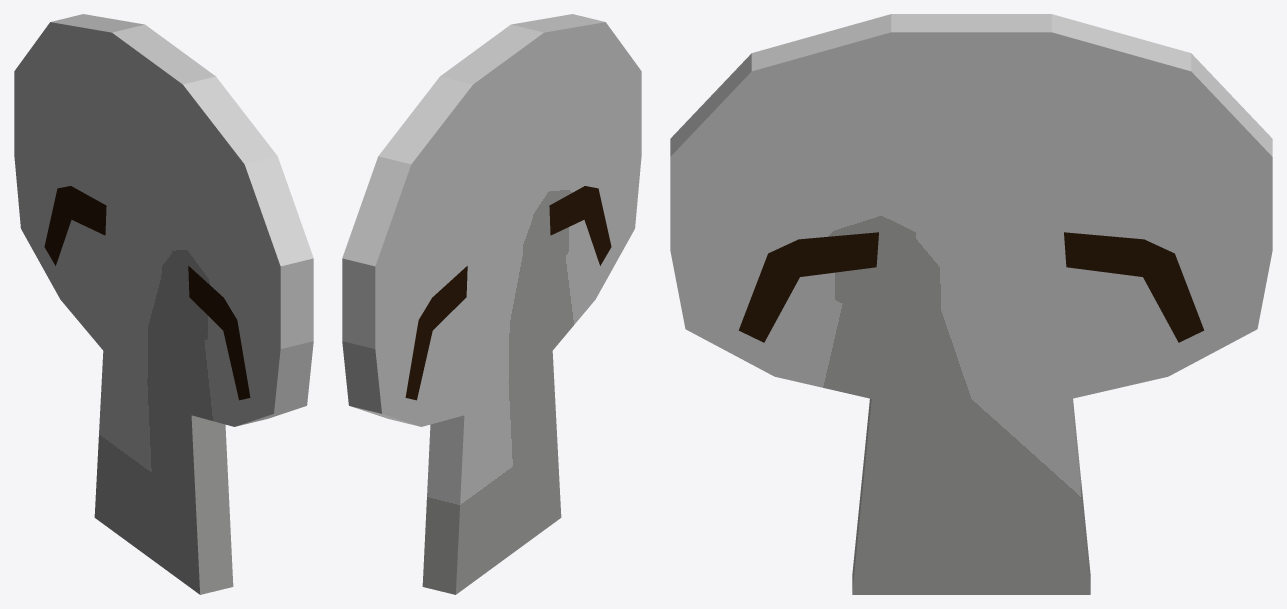
Rendered from mushroom06.gltf.
3 views of the same model, side by side, from view 1: azimuth 30°, elevation 25°; view 2: azimuth 150°, elevation 25°; view 3: azimuth 270°, elevation 25° (orthographic). The views are drawn at different scales.
Parts seen in each view (by area): view 1: Cylinder; view 2: Cylinder; view 3: Cylinder.
Part boxes in pixels (<box>): Cylinder: <box>14,14,313,594</box>; Cylinder: <box>342,14,641,594</box>; Cylinder: <box>670,14,1272,594</box>.
Bounding box in the file's own units: 0.00248 × 0.0356 × 0.0346.
1 material, 1 textured.
